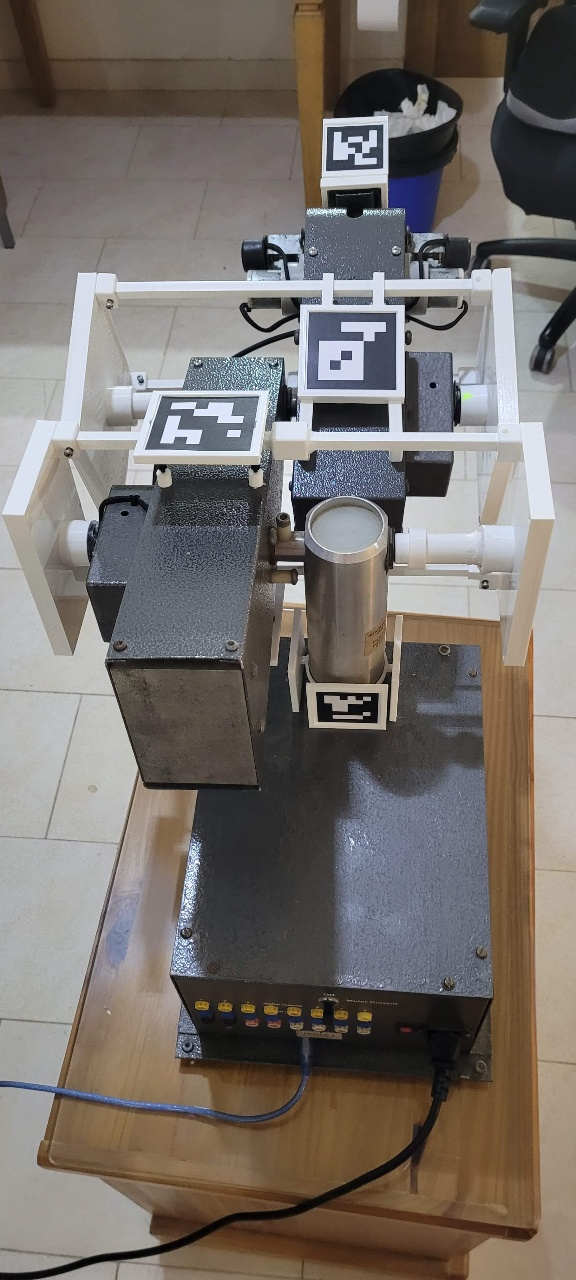Robot: (64, 210, 564, 1021)
